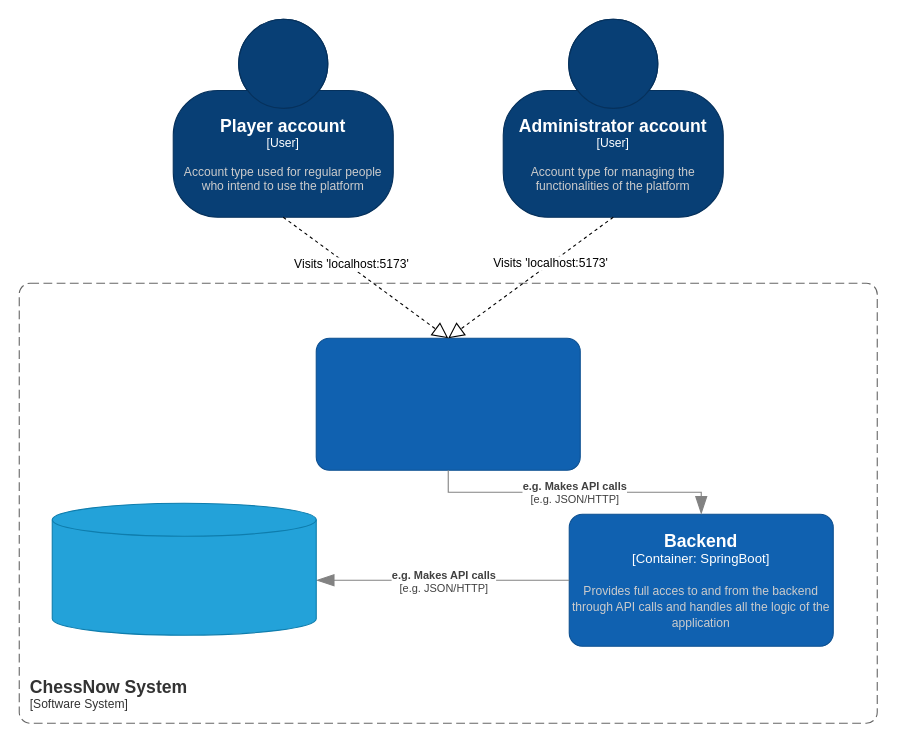
This 897x743 diagram has some shape labels left out. The centre of each missing label's shape, as x and y in pixels:
"Database [Database: MySQL] Storage for all users, games" belongs at [183,568].
"Web Application [React] Software used to sustain the online environment" belongs at [447,403].
